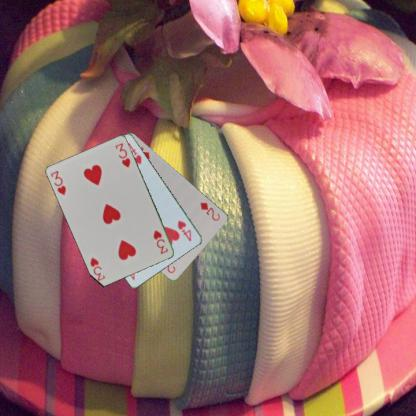2d: (198, 199, 221, 222)
3h: (48, 168, 68, 197), (151, 228, 170, 255)
4h: (174, 218, 193, 242)
